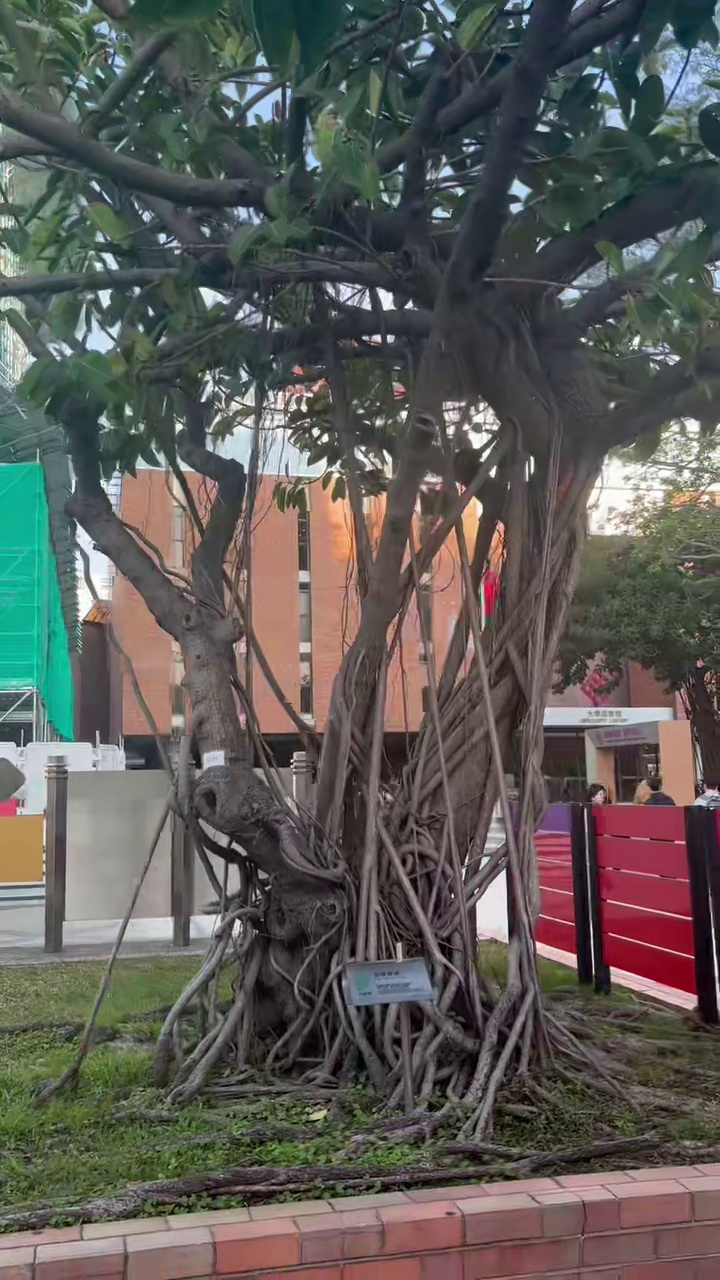Ficus elastica: (0, 0, 719, 1139)
